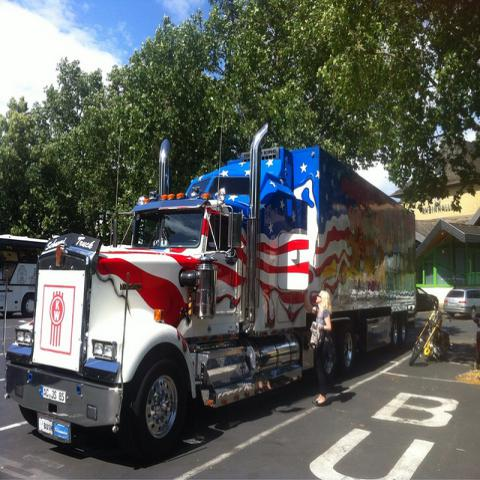bus: (2, 234, 47, 322)
car: (443, 288, 479, 320), (416, 286, 440, 312)
motorcycle: (408, 296, 454, 364)
truck: (6, 120, 420, 458)
